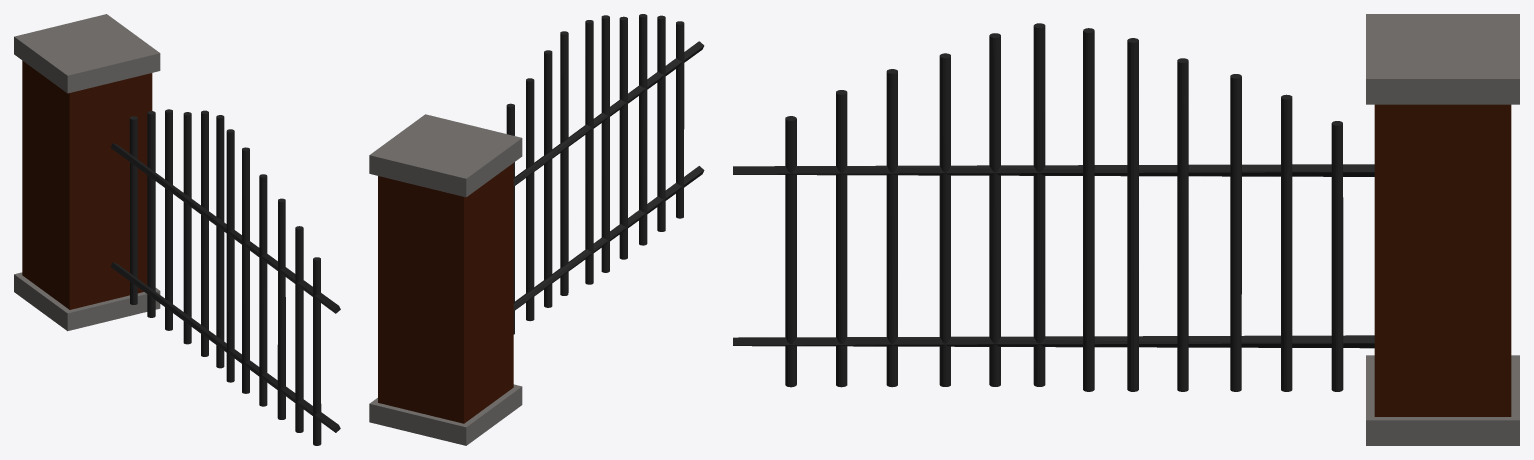
File: fence2.fbx
The picture shows the model from 3 angles, left to right: view 1: azimuth 30°, elevation 25°; view 2: azimuth 150°, elevation 25°; view 3: azimuth 270°, elevation 25°; orthographic projection. The views are drawn at different scales.
Visible parts, largest first — view 1: Cube, Cylinder.000; view 2: Cube, Cylinder.000; view 3: Cube, Cylinder.000.
Boxes of the visible parts, box(x1,y1,x2,y2) form: Cube: box(14, 14, 160, 331); Cylinder.000: box(110, 109, 340, 445); Cube: box(369, 114, 522, 445); Cylinder.000: box(506, 14, 704, 334); Cube: box(1366, 14, 1519, 445); Cylinder.000: box(733, 23, 1374, 391).
Size of the model in its own units: 185 by 517 by 946.
